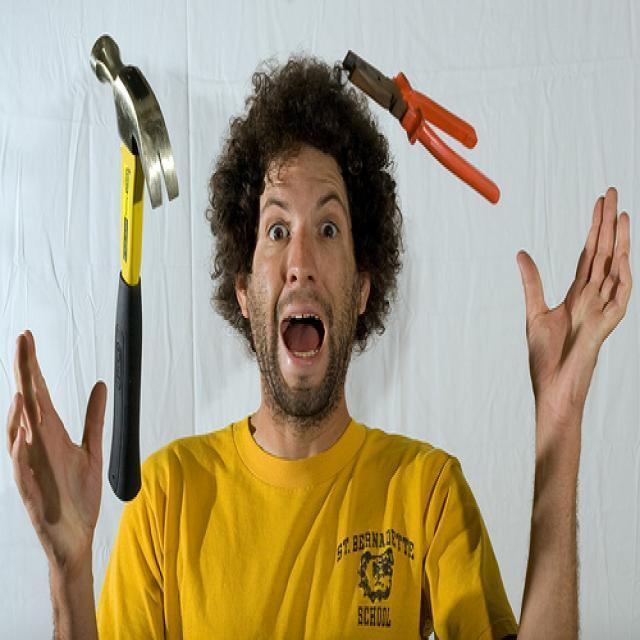hammer: (86, 17, 184, 511)
pliers: (336, 36, 507, 216)
